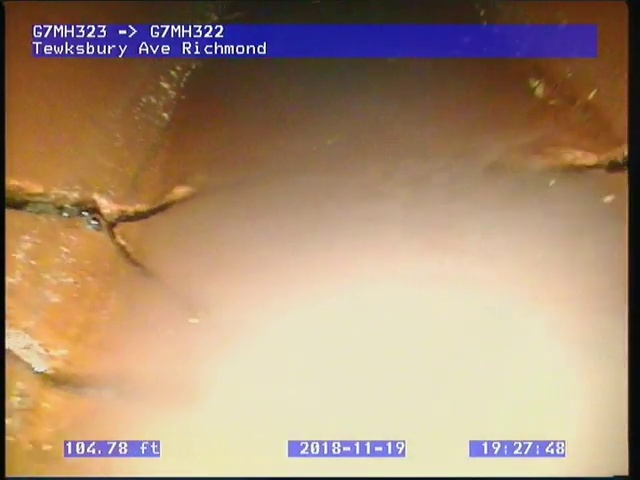crack: (7, 180, 202, 279), (569, 145, 628, 179)
